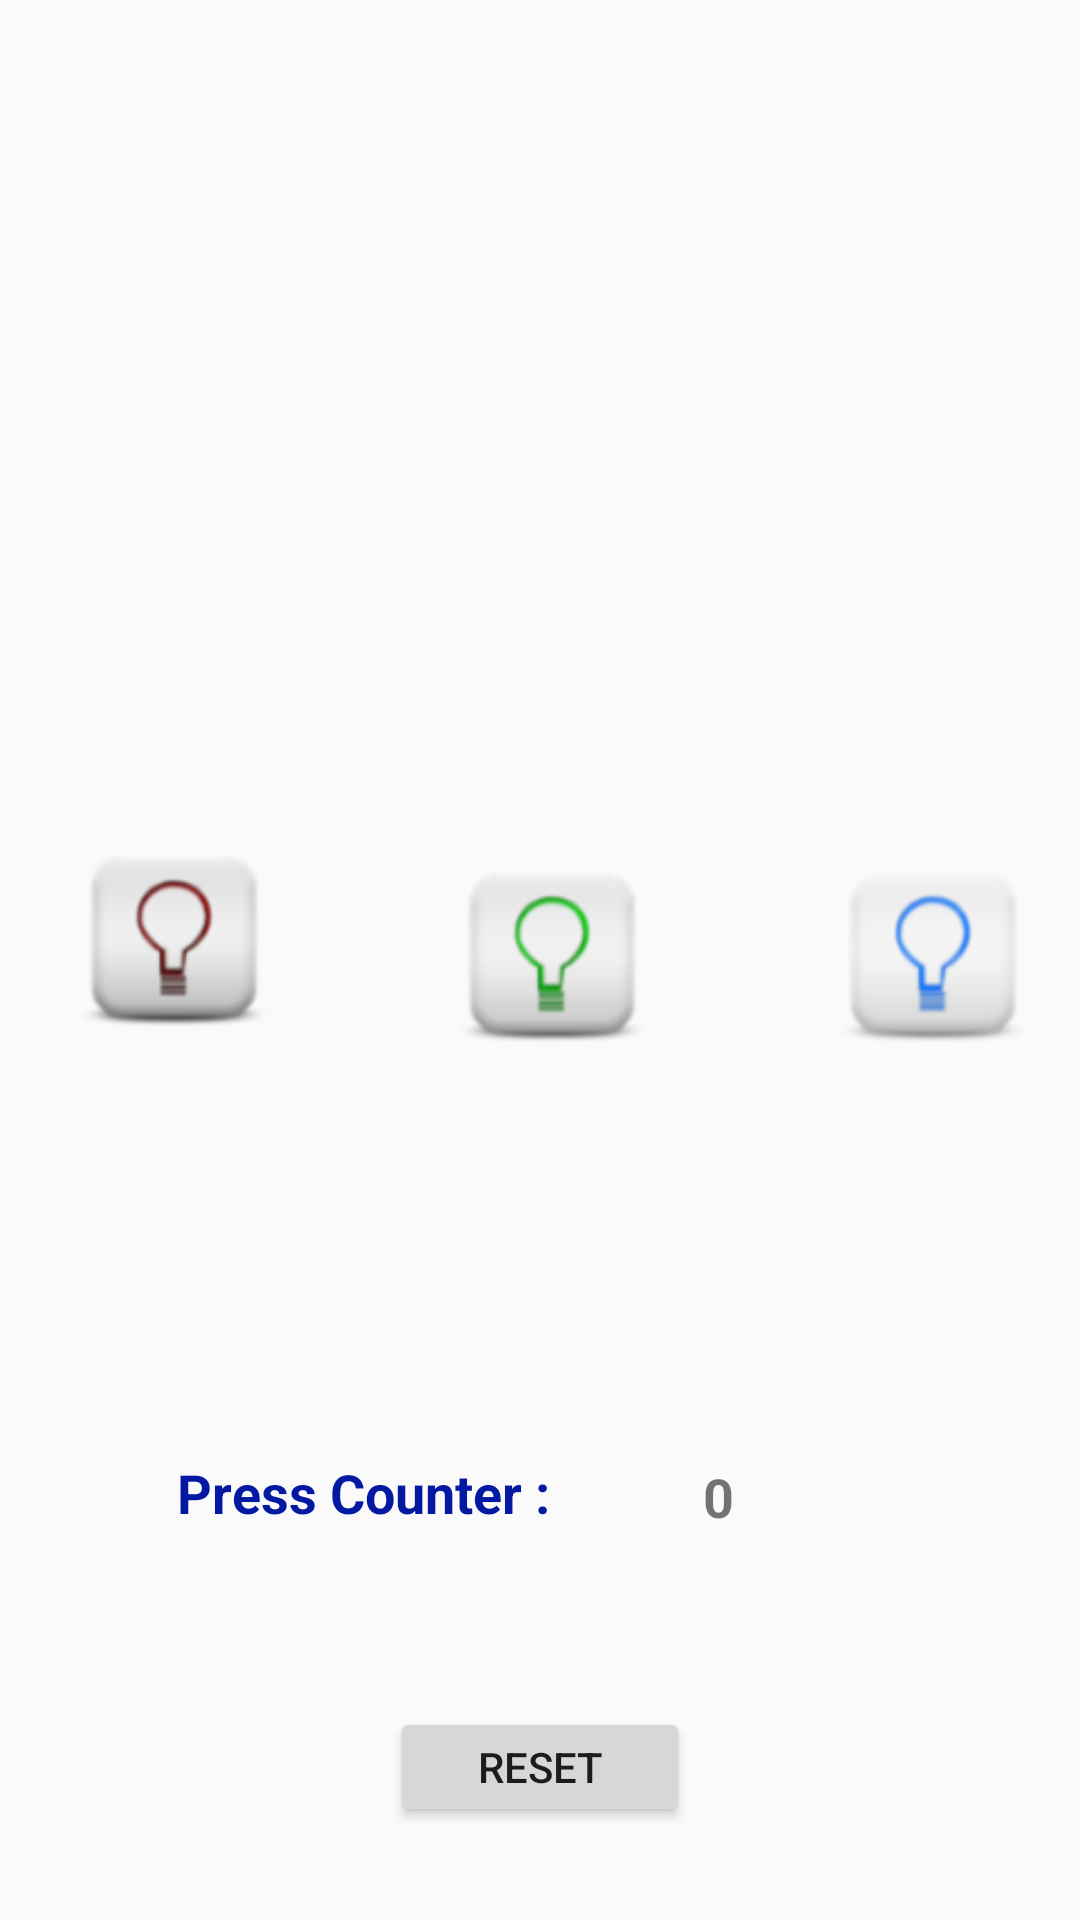

Point at icon controls on the screen. Image size 1080x1920, points as point (x, y).
led off: point (552, 958), point (174, 950), point (933, 959)
